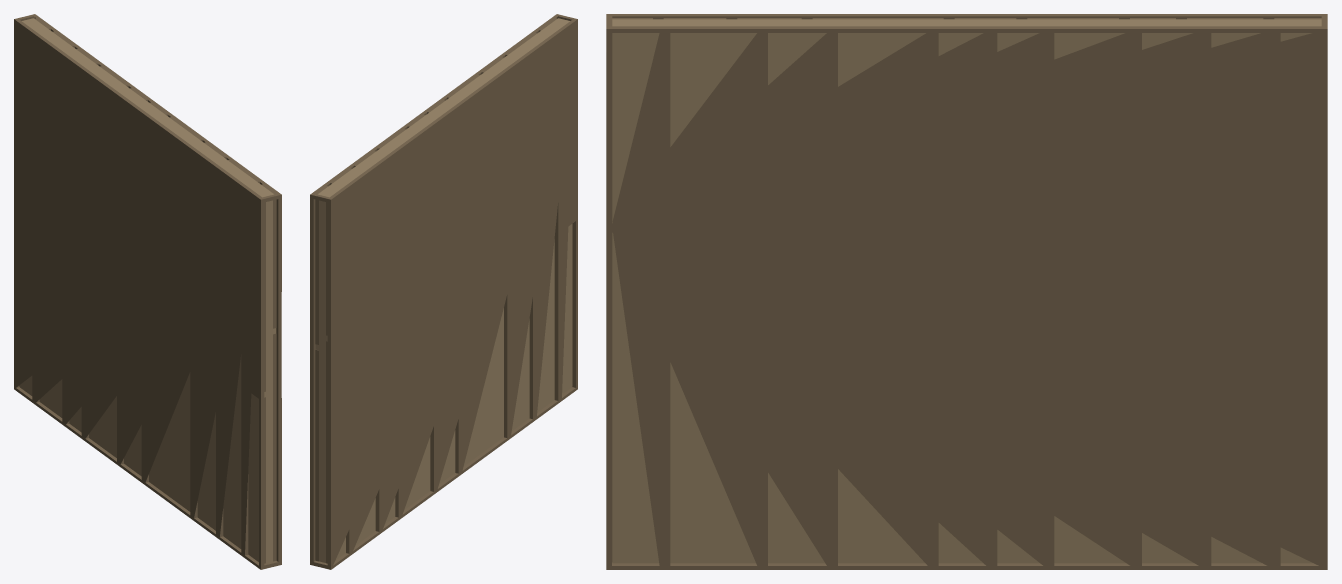
File: Wall.fbx
3 renders of one model, left to right at view 1: azimuth 30°, elevation 25°; view 2: azimuth 150°, elevation 25°; view 3: azimuth 270°, elevation 25°, orthographic. The views are drawn at different scales.
Visible parts, largest first — view 1: Details, LightWood; view 2: Details, LightWood; view 3: Details, LightWood.
Boxes of the visible parts, <box> form: Details: <box>14,14,281,569</box>; LightWood: <box>19,18,276,562</box>; Details: <box>310,14,577,569</box>; LightWood: <box>315,18,572,562</box>; Details: <box>606,14,1327,569</box>; LightWood: <box>612,19,1321,563</box>.
Bounding box in the file's own units: 0.6006 × 10.1 × 12.2.
